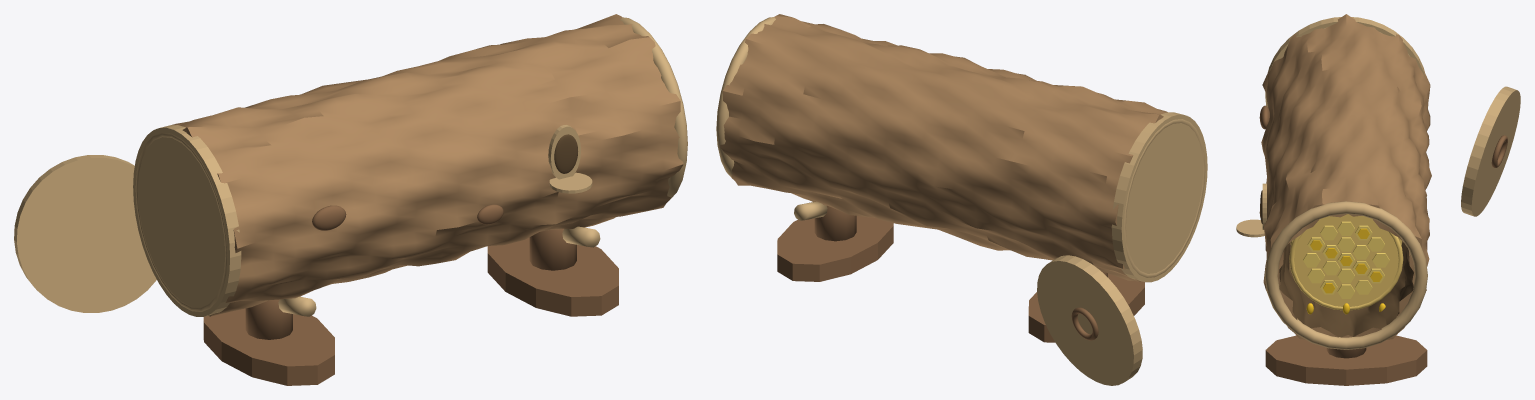
Rendered from jobon.glb.
The picture shows the model from 3 angles, left to right: view 1: azimuth 30°, elevation 25°; view 2: azimuth 150°, elevation 25°; view 3: azimuth 270°, elevation 25°; orthographic projection. The views are drawn at different scales.
Visible parts, largest first — view 1: Jobon_Estructura; view 2: Jobon_Estructura; view 3: Jobon_Estructura.
Boxes of the visible parts, x1,y1,x2,y2 form: Jobon_Estructura: (14,14,687,385); Jobon_Estructura: (716,14,1207,385); Jobon_Estructura: (1236,14,1520,385).
Size of the model in its own units: 1.42 by 0.62 by 0.7877.
